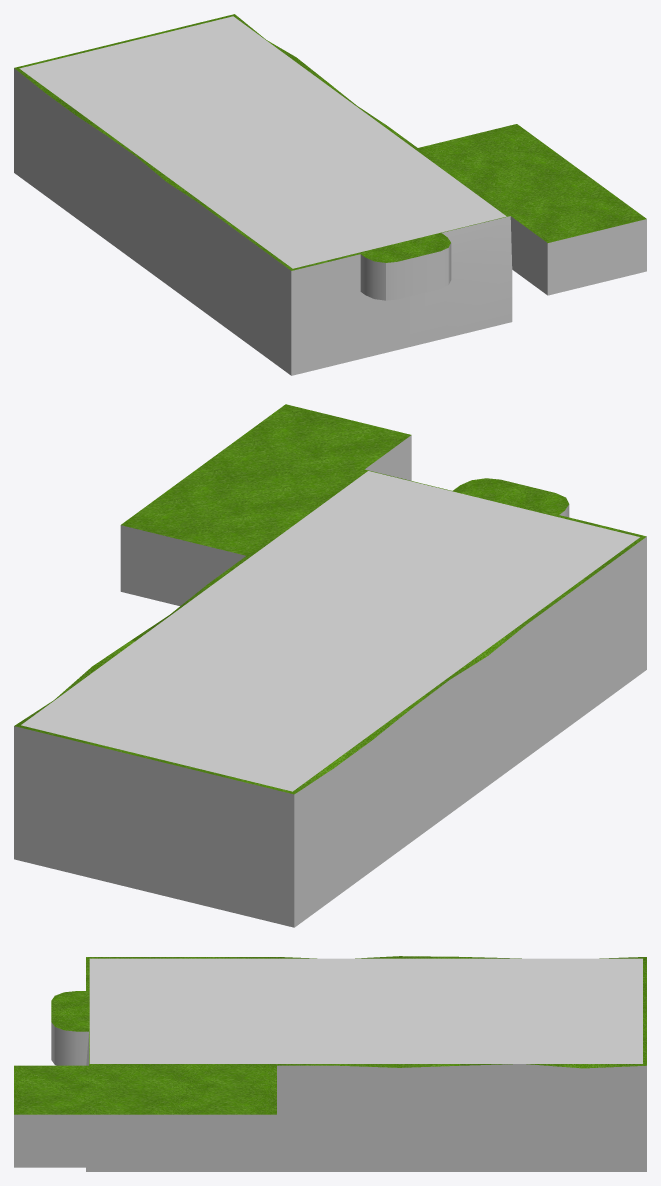
Rendered from SM_world_3_ground_03.fbx.
3 renders of one model, top to bottom at view 1: azimuth 30°, elevation 25°; view 2: azimuth 150°, elevation 25°; view 3: azimuth 270°, elevation 25°, orthographic. The views are drawn at different scales.
Parts seen in each view (by area): view 1: Ground_Factory; view 2: Ground_Factory; view 3: Ground_Factory.
Part boxes in pixels (x1,y1,x2,y2): Ground_Factory: (14,14,646,375); Ground_Factory: (14,404,646,927); Ground_Factory: (14,956,646,1171).
Bounding box in the file's own units: 9573 × 16223 × 3054.
